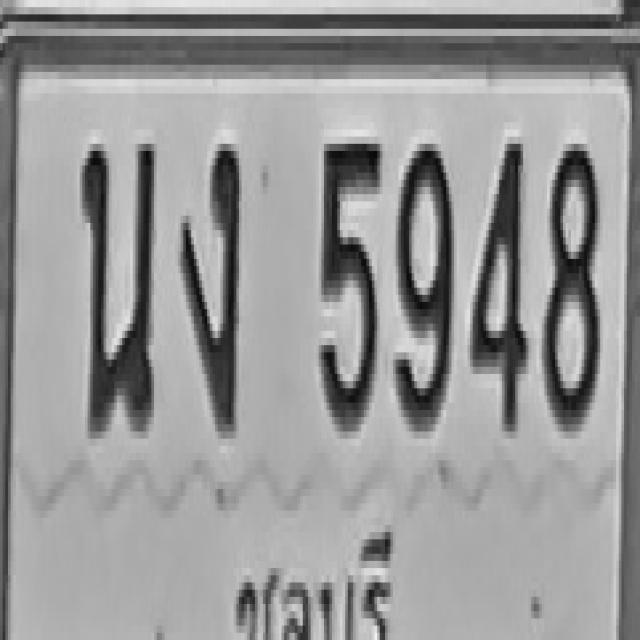16NgorNgu: (180, 136, 240, 432)
34NorNu: (80, 133, 156, 435)
4: (469, 136, 527, 432)
5: (319, 136, 382, 432)
8: (542, 133, 600, 428)
9: (394, 136, 453, 432)
Chonburi: (228, 510, 395, 640)
